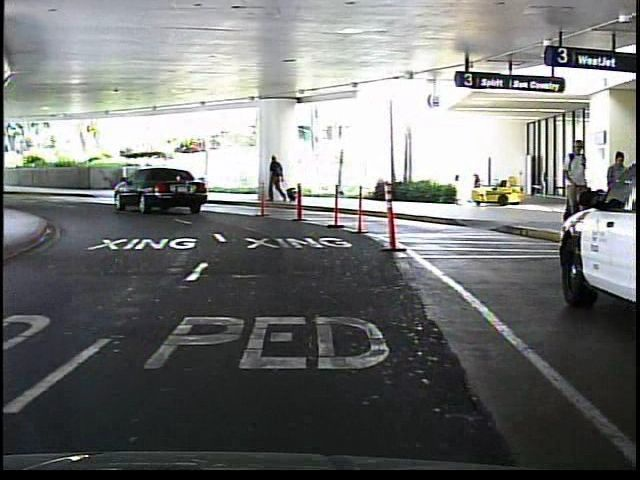person: (557, 136, 591, 235), (263, 153, 289, 207)
